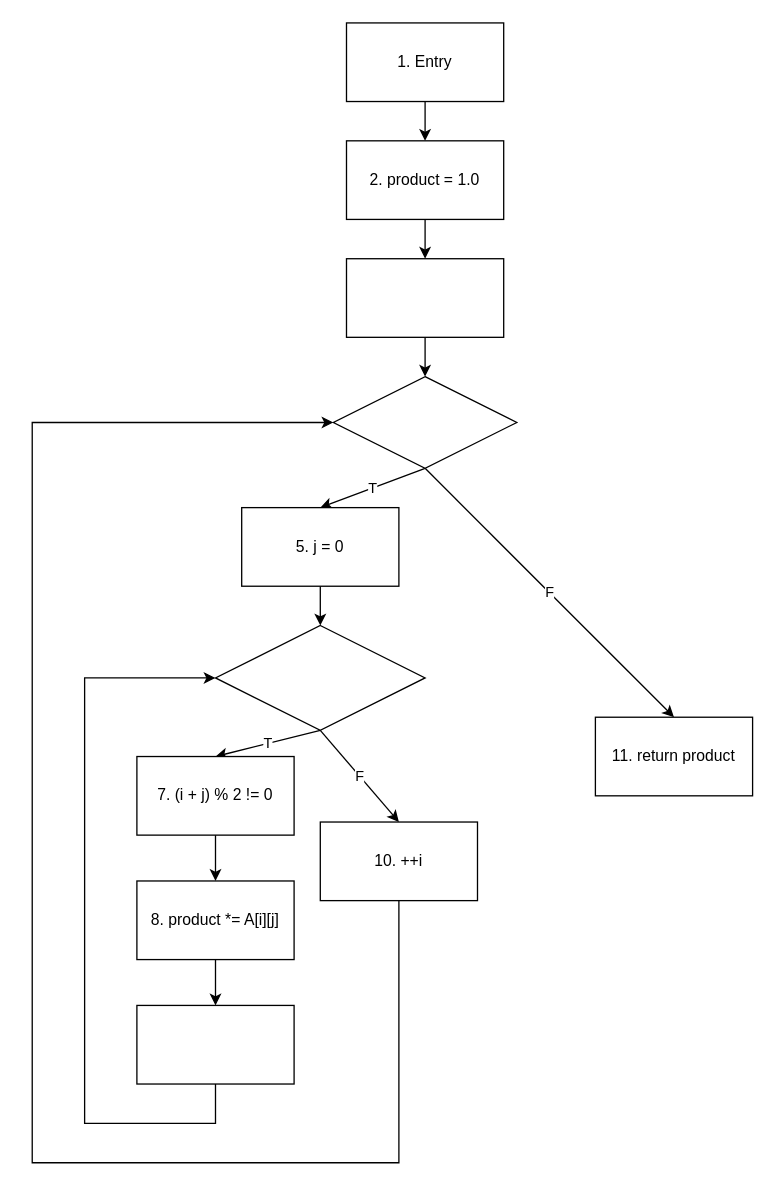
Image size: 776x1197. Some labels were removed from this diagram. Each missing label, with the centre of its shape:
3. i = 0: the point at 424,297
4. i < A.size(): the point at 424,421
6. j < A[i].size(): the point at 319,677
9. ++j: the point at 215,1044
